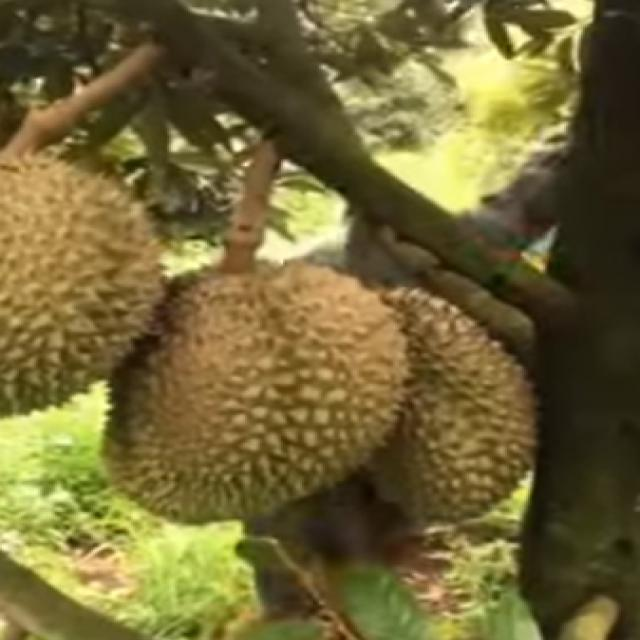mature: (93, 254, 421, 530), (314, 285, 537, 525), (0, 146, 170, 426)
